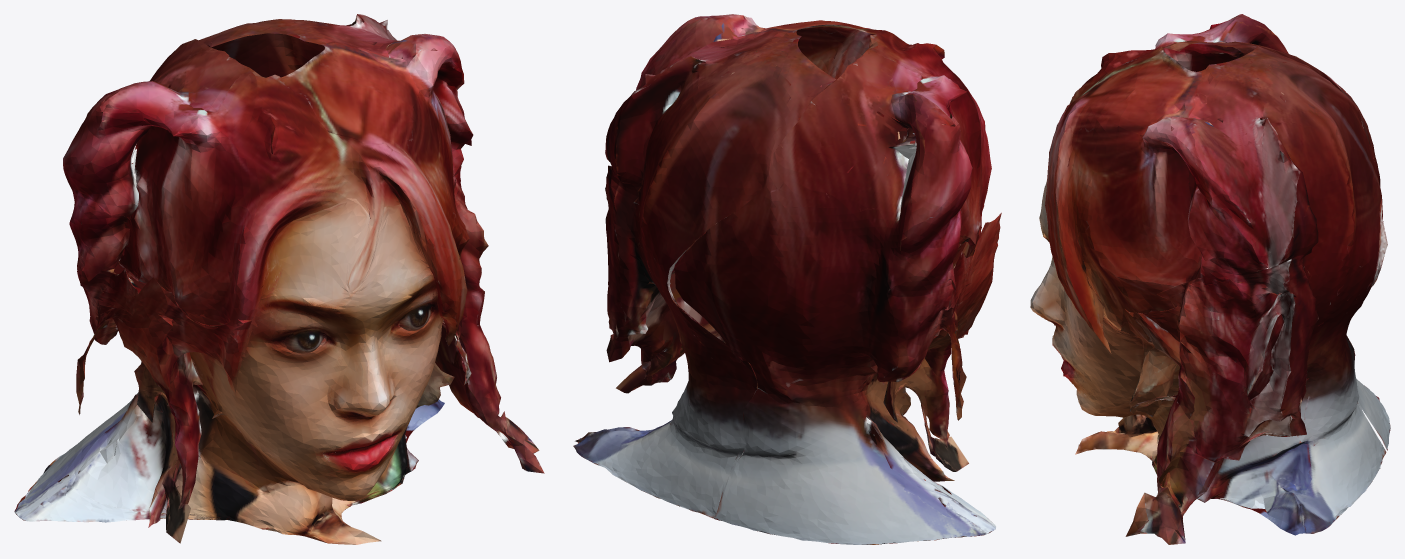
The picture shows the model from 3 angles, left to right: view 1: azimuth 30°, elevation 25°; view 2: azimuth 150°, elevation 25°; view 3: azimuth 270°, elevation 25°; orthographic projection. The views are drawn at different scales.
Bounding box in the file's own units: 1.8 × 1.67 × 1.39.
1 material, 1 textured.
